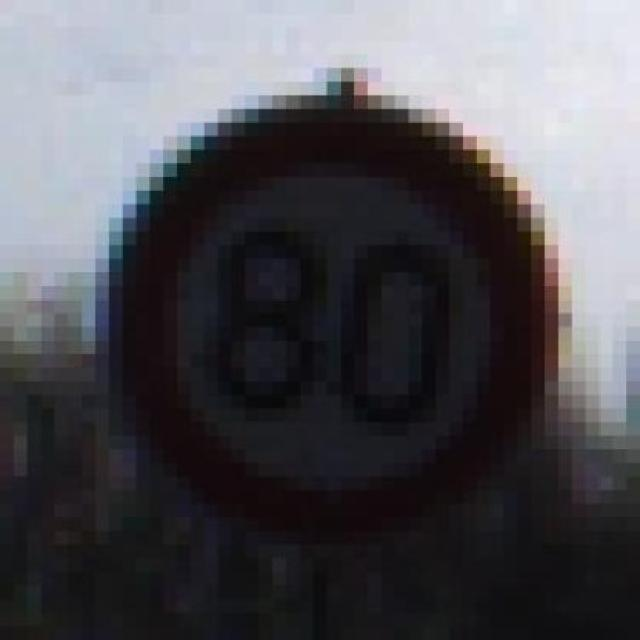forb_speed_over_80: (113, 106, 553, 543)
